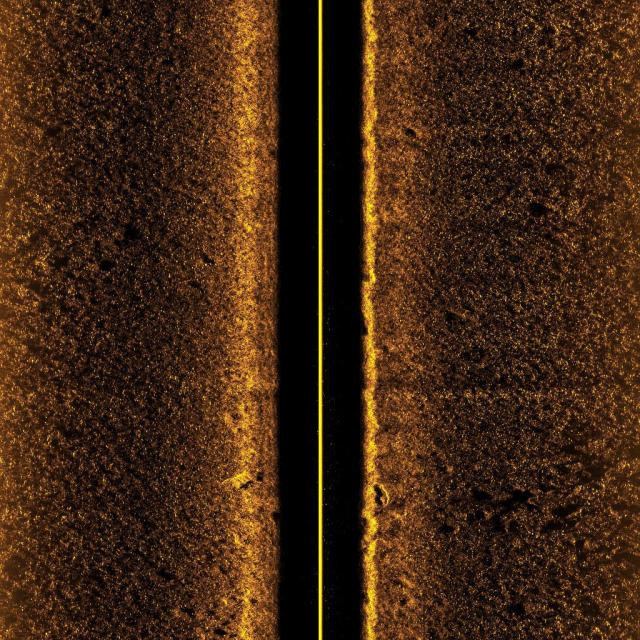mine: (233, 468, 255, 494)
